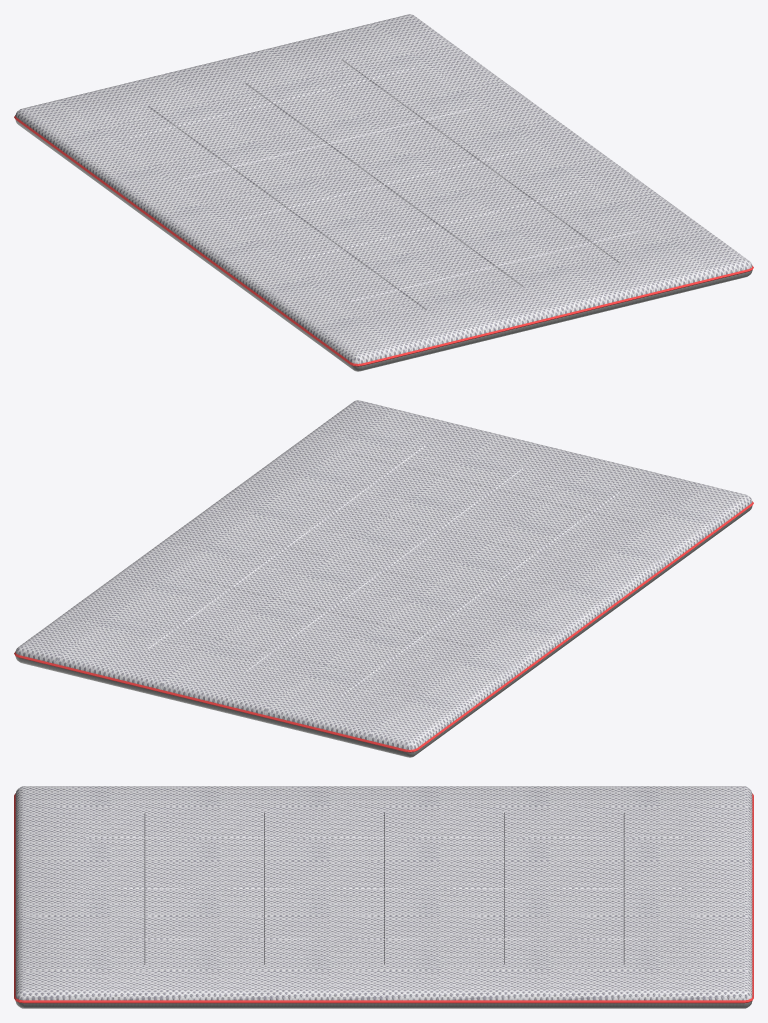
Rendered from mat_red.obj.
The picture shows the model from 3 angles, top to bottom: view 1: azimuth 30°, elevation 25°; view 2: azimuth 150°, elevation 25°; view 3: azimuth 270°, elevation 25°; orthographic projection. The views are drawn at different scales.
Parts seen in each view (by area): view 1: red.002; view 2: red.002; view 3: red.002.
Boxes of the visible parts, left/top/right/bottom form: red.002: left=14, top=14, right=753, bottom=371; red.002: left=14, top=400, right=753, bottom=757; red.002: left=14, top=786, right=753, bottom=1008.
Size of the model in its own units: 3.66 by 0.1458 by 5.41.
Materials: 3 (2 with a texture image).
